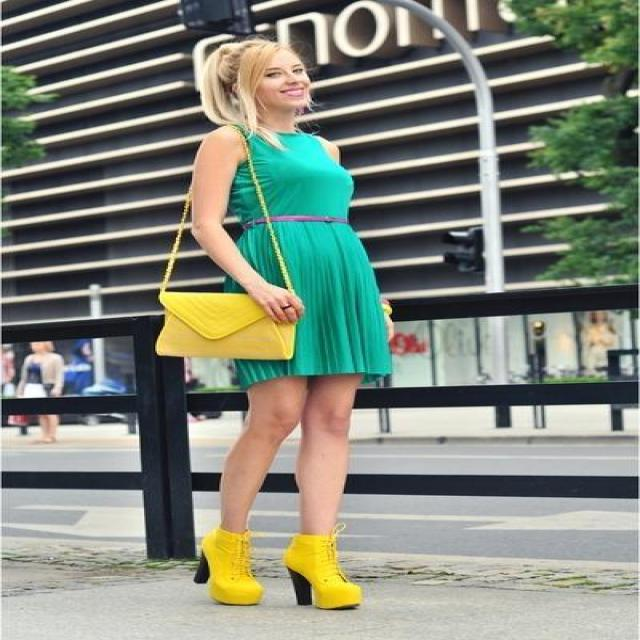bag: (155, 292, 293, 358)
dress: (222, 132, 398, 388)
pants: (194, 576, 208, 582)
shoe: (200, 529, 358, 610)
